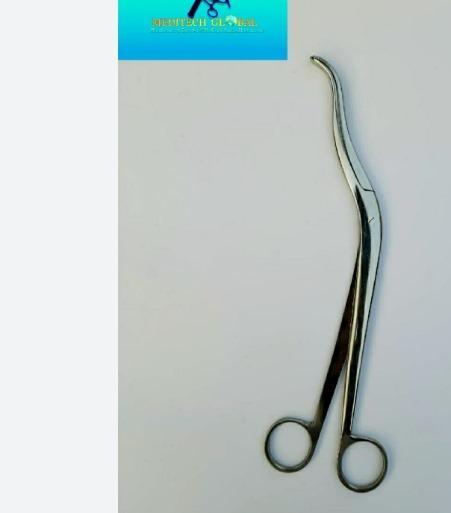Cheatle Forceps: (264, 47, 395, 493)
